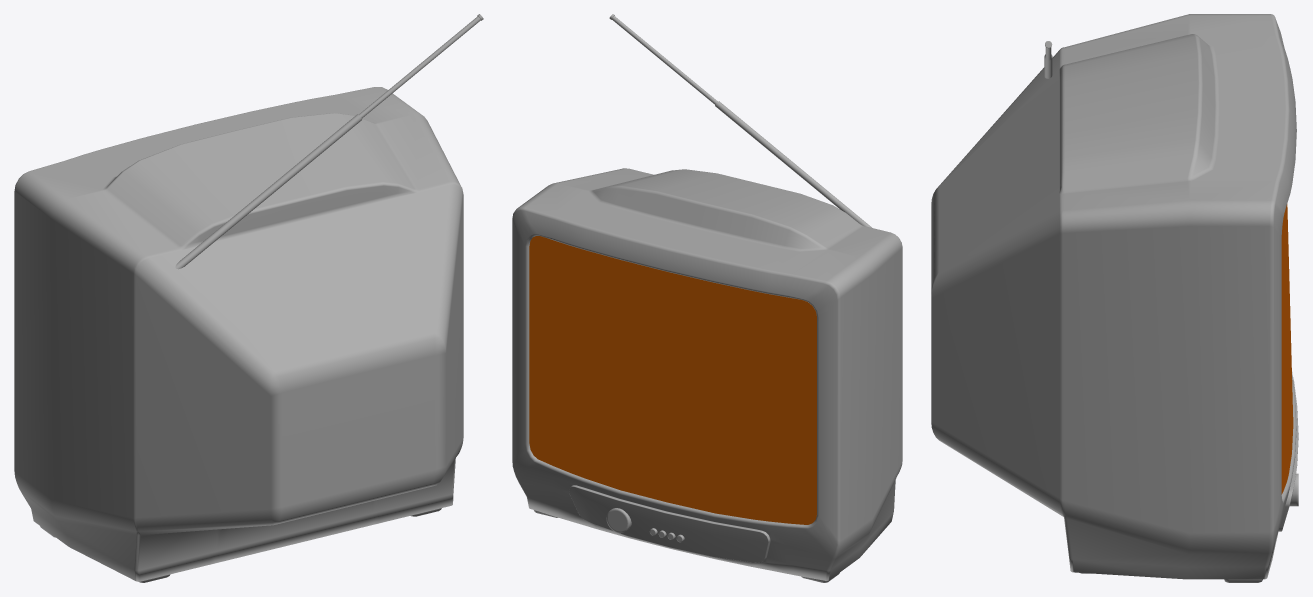
The picture shows the model from 3 angles, left to right: view 1: azimuth 30°, elevation 25°; view 2: azimuth 150°, elevation 25°; view 3: azimuth 270°, elevation 25°; orthographic projection. The views are drawn at different scales.
Visible parts, largest first — view 1: Televisore_Scocca; view 2: Televisore_Scocca, polySurface10; view 3: Televisore_Scocca, polySurface10.
Boxes of the visible parts, <box> form: Televisore_Scocca: <box>14,14,483,582</box>; Televisore_Scocca: <box>512,14,902,582</box>; polySurface10: <box>529,236,816,524</box>; Televisore_Scocca: <box>931,14,1298,582</box>; polySurface10: <box>1281,204,1293,494</box>.
Size of the model in its own units: 57.87 by 73.45 by 44.7.
